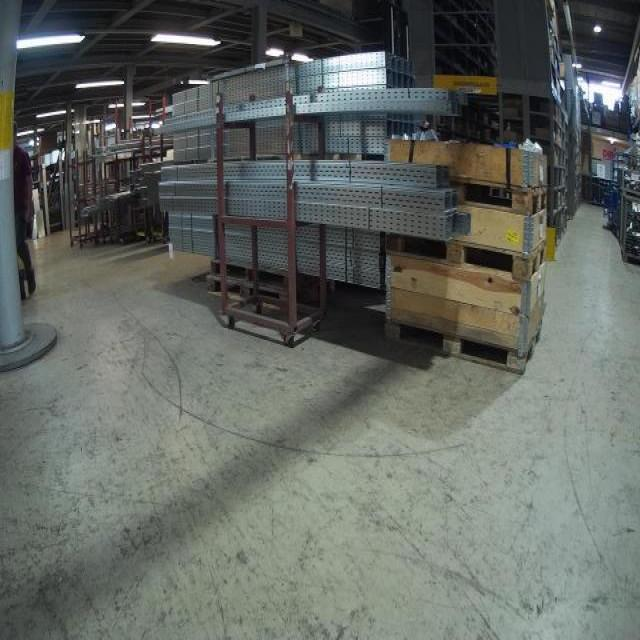pallet: (385, 315, 540, 377), (385, 226, 547, 285), (447, 174, 549, 219), (207, 274, 304, 305), (210, 259, 307, 286)
stillage: (610, 195, 639, 268), (619, 154, 639, 200)
